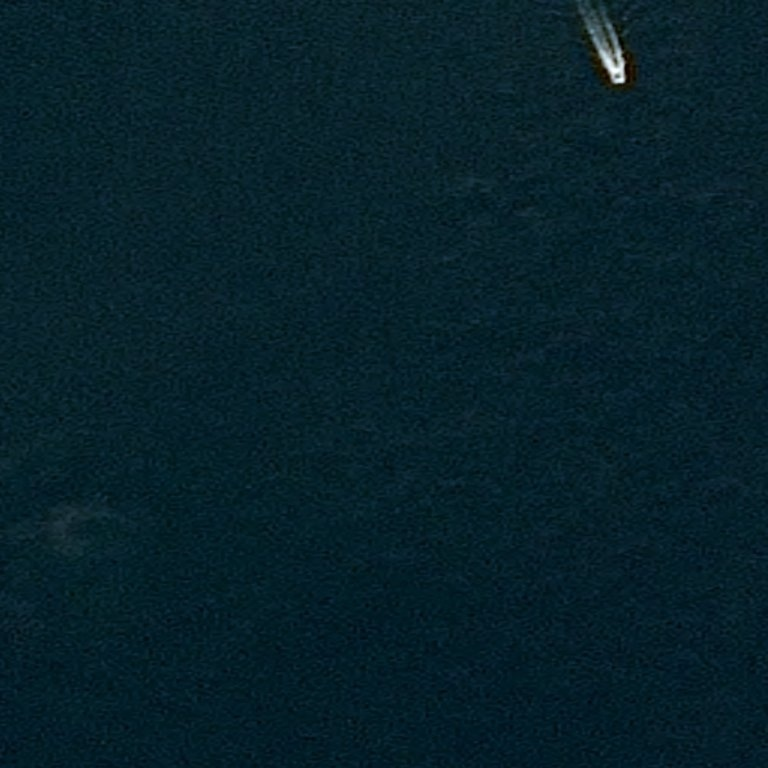ship: (608, 67, 626, 85)
